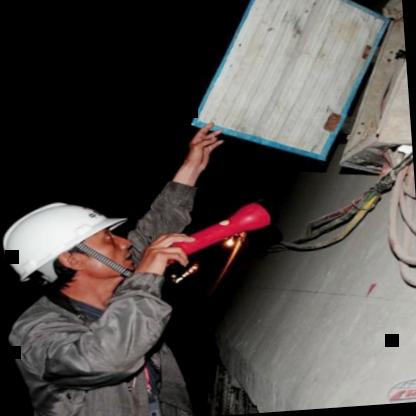helmet: (0, 183, 154, 312)
